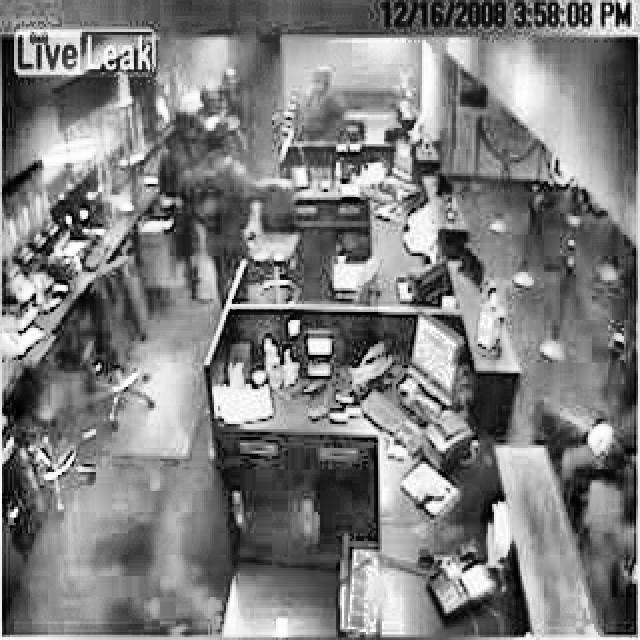robbery: (156, 66, 258, 312)
